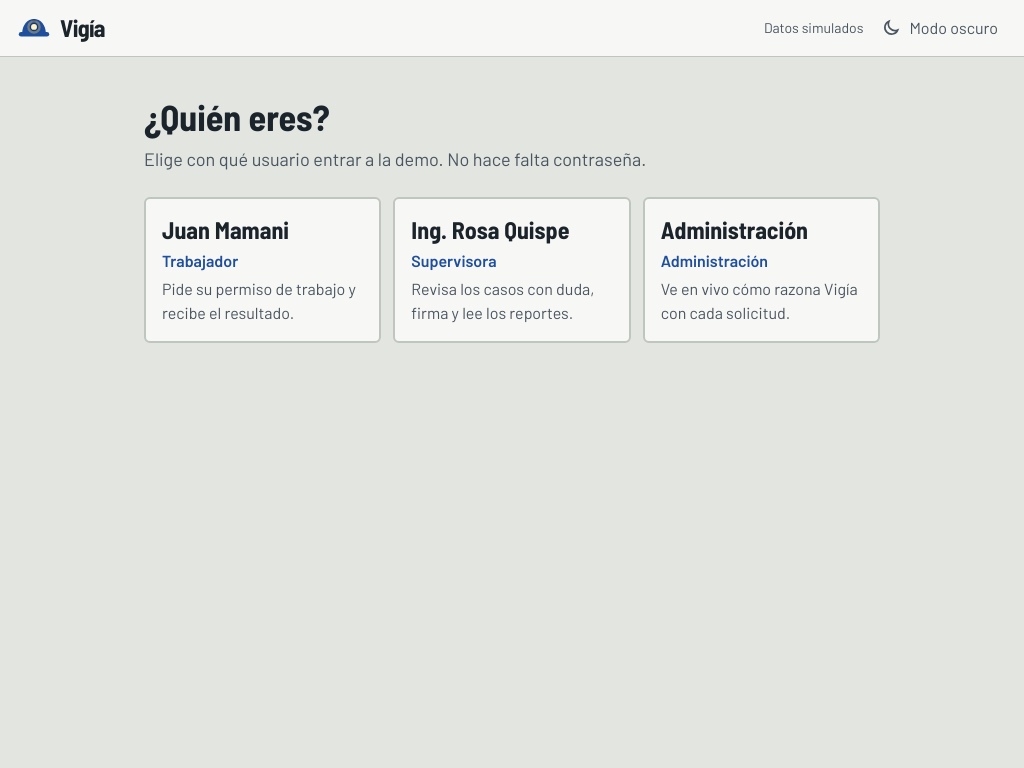
Scenario: ingreso por usuario › al entrar conserva los parámetros de la demo
Click the button "Ing. Rosa Quispe" at (512, 270), box [393, 197, 631, 343]
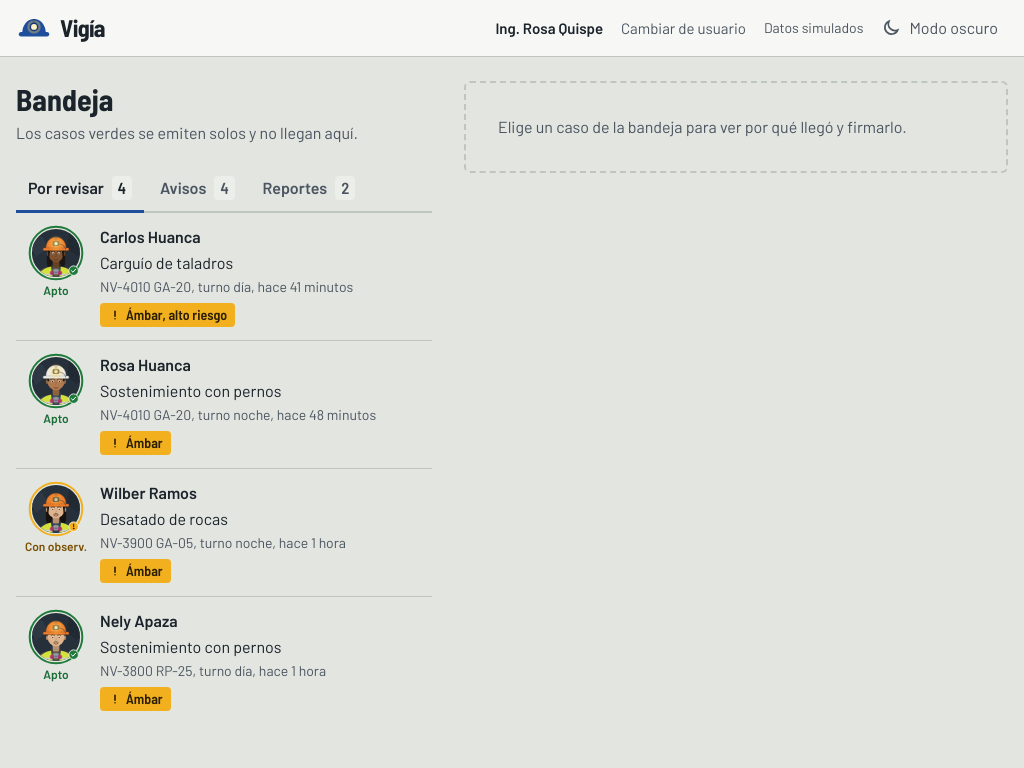
Now the heading "Bandeja" is shown, box [16, 81, 113, 117]
